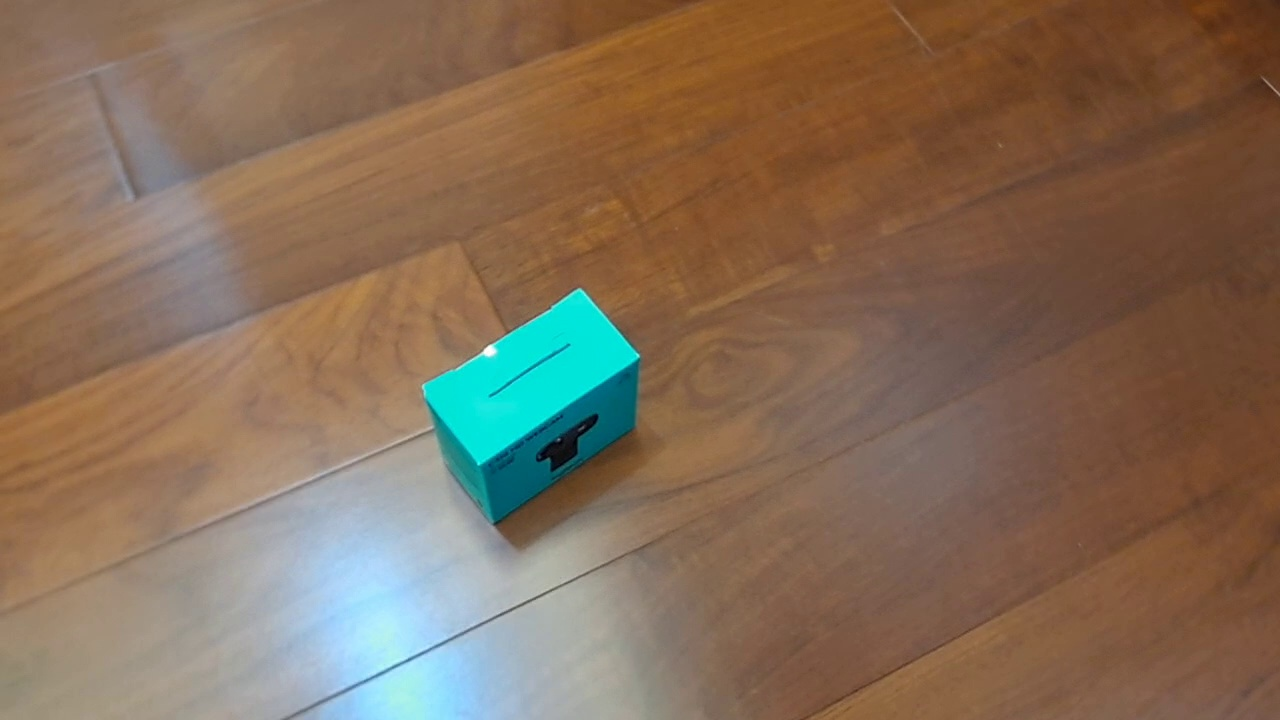webcam: (420, 287, 641, 526)
